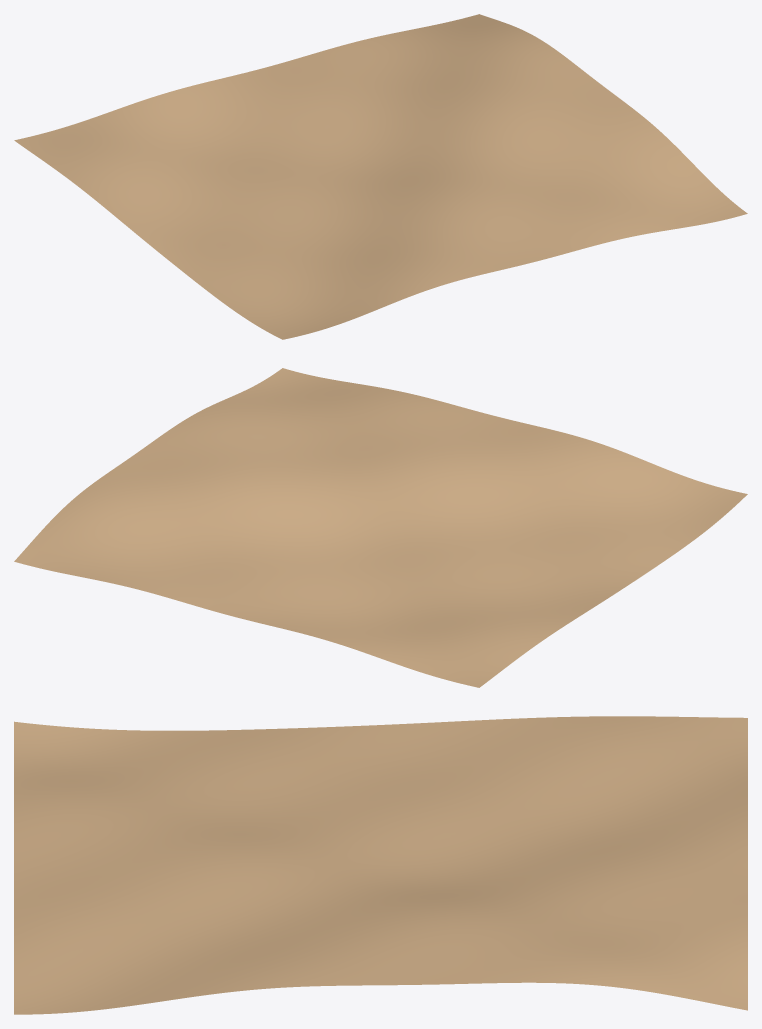
The model's file is env_terrain.glb.
3 views of the same model, one above another, from view 1: azimuth 30°, elevation 25°; view 2: azimuth 150°, elevation 25°; view 3: azimuth 270°, elevation 25° (orthographic). The views are drawn at different scales.
Parts seen in each view (by area): view 1: Grid; view 2: Grid; view 3: Grid.
Part boxes in pixels (x1,y1,x2,y2): Grid: (14,14,747,339); Grid: (14,368,747,687); Grid: (14,716,747,1014).
Size of the model in its own units: 2 by 0.1755 by 2.
